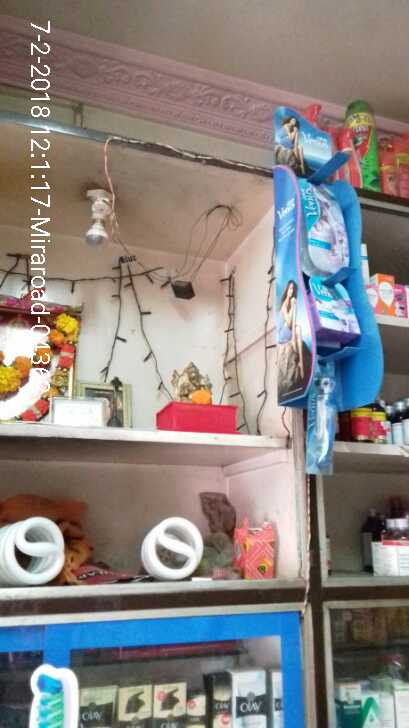venus: (300, 179, 349, 271), (307, 374, 339, 477), (311, 282, 360, 332)
